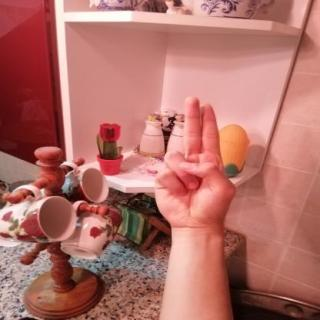TA: (140, 88, 248, 235)
